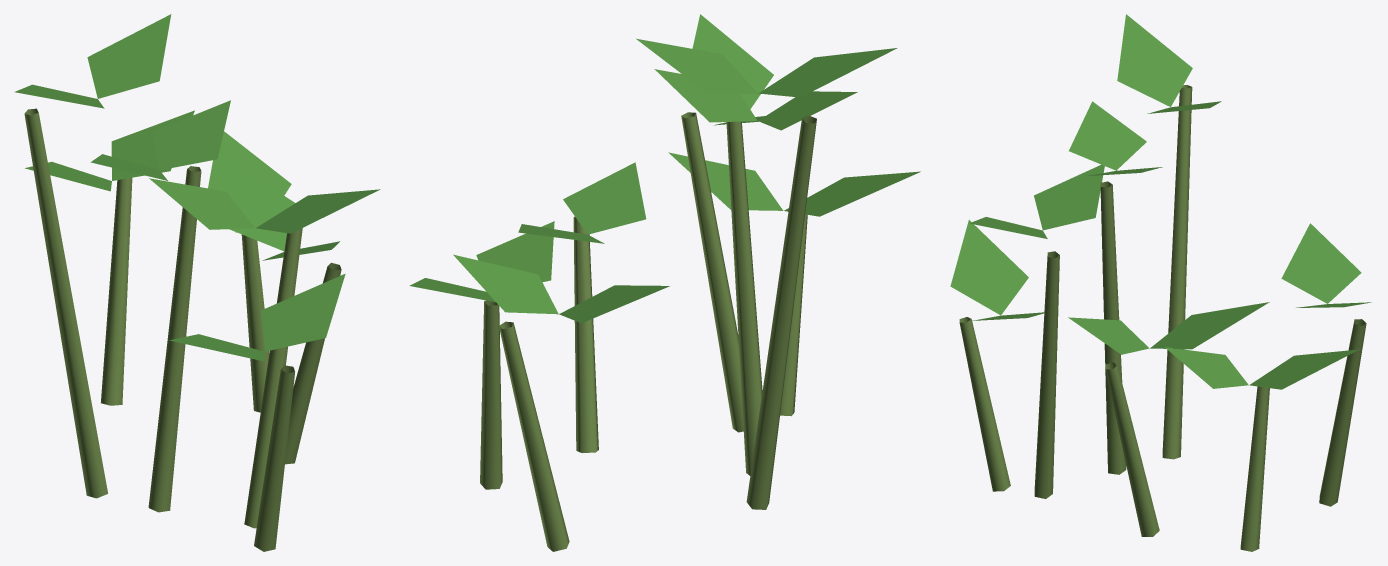
The model's file is sprouts.glb.
3 views of the same model, side by side, from view 1: azimuth 30°, elevation 25°; view 2: azimuth 150°, elevation 25°; view 3: azimuth 270°, elevation 25° (orthographic). The views are drawn at different scales.
Visible parts, largest first — view 1: sprout_stems, sprout_leaves; view 2: sprout_stems, sprout_leaves; view 3: sprout_leaves, sprout_stems.
Part boxes in pixels (left/top/right/bottom): sprout_stems: left=24, top=108, right=341, bottom=551; sprout_leaves: left=14, top=14, right=380, bottom=361; sprout_stems: left=480, top=112, right=816, bottom=551; sprout_leaves: left=409, top=14, right=920, bottom=323; sprout_leaves: left=950, top=14, right=1371, bottom=389; sprout_stems: left=959, top=85, right=1366, bottom=551.
Size of the model in its own units: 0.1102 by 0.1291 by 0.1245.
